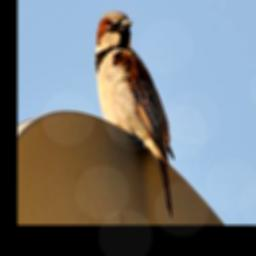Swallow: (93, 10, 174, 218)
